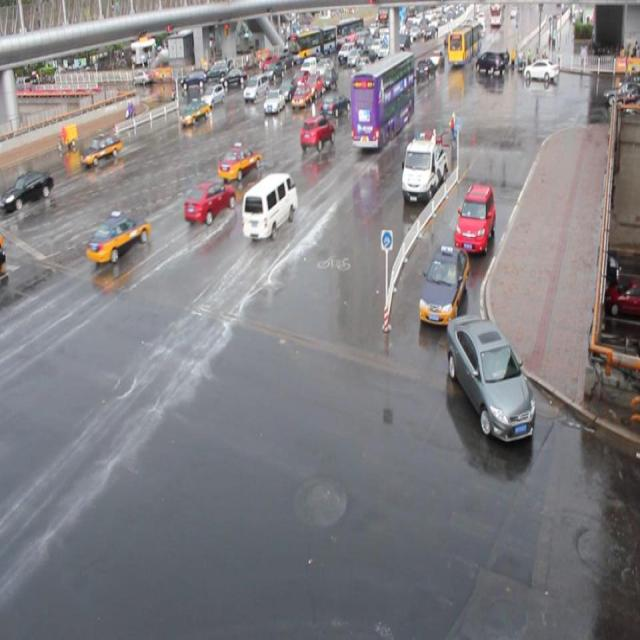bus: (400, 128, 447, 205)
car: (445, 313, 534, 442), (418, 242, 469, 329), (86, 212, 152, 264), (455, 182, 495, 258), (184, 180, 238, 228), (1, 171, 54, 212), (217, 143, 261, 183), (80, 134, 123, 168), (299, 116, 334, 152), (179, 98, 210, 128), (318, 91, 348, 119), (263, 89, 285, 114), (292, 84, 312, 108), (279, 77, 297, 100), (306, 73, 324, 96), (293, 68, 310, 90)
truck: (242, 174, 296, 242)
van: (350, 48, 416, 152)
